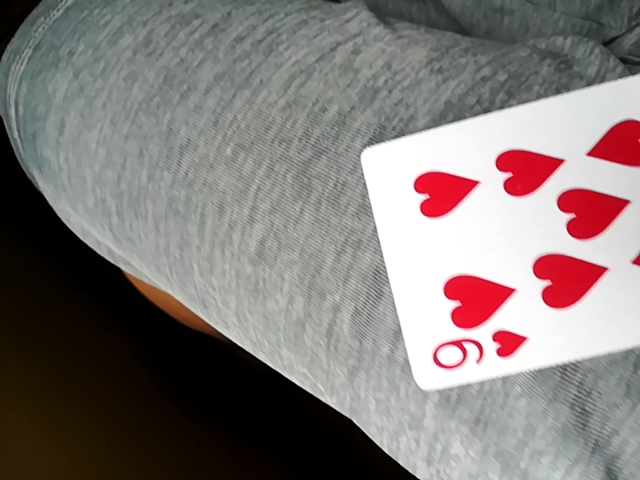hx 9: (362, 61, 640, 396)
